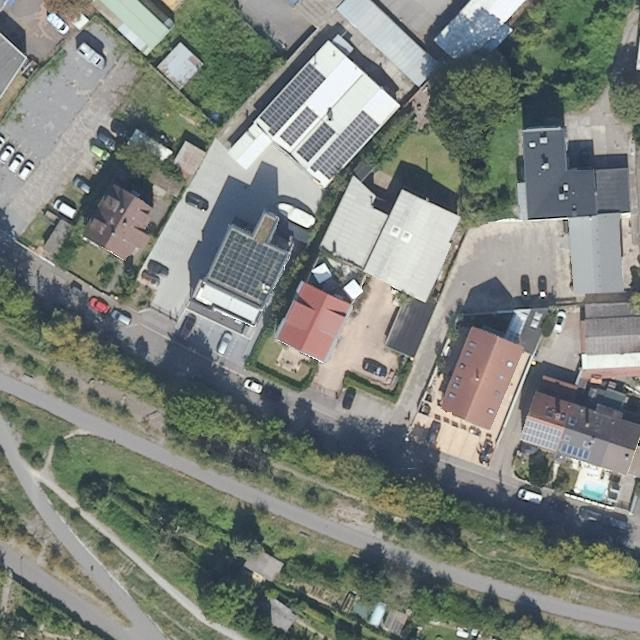PV: (209, 229, 289, 304), (257, 61, 330, 138), (308, 107, 381, 182), (294, 120, 338, 165), (277, 104, 321, 148), (518, 418, 563, 452), (557, 441, 594, 463)
